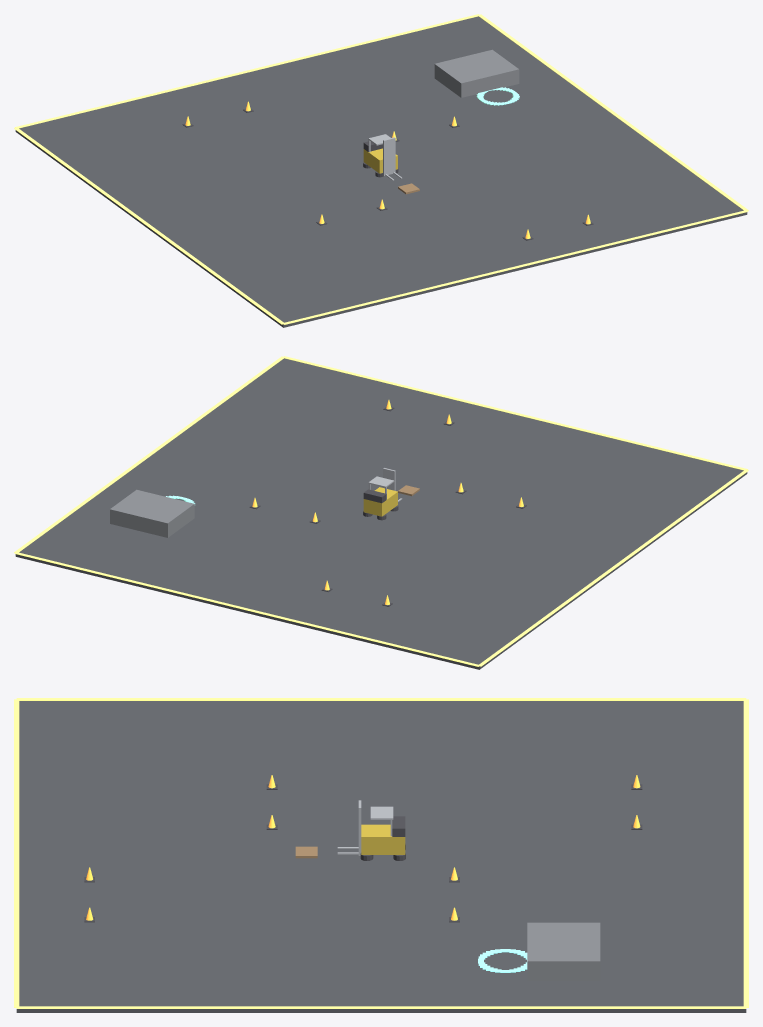
File: sim-forklift-run.glb
The picture shows the model from 3 angles, top to bottom: view 1: azimuth 30°, elevation 25°; view 2: azimuth 150°, elevation 25°; view 3: azimuth 270°, elevation 25°; orthographic projection. The views are drawn at different scales.
Parts seen in each view (by area): view 1: Forklift Yard Run; view 2: Forklift Yard Run; view 3: Forklift Yard Run.
Part boxes in pixels (<box>): Forklift Yard Run: <box>14,14,748,327</box>; Forklift Yard Run: <box>14,356,748,669</box>; Forklift Yard Run: <box>14,698,748,1012</box>.
Size of the model in its own units: 40.3 by 3.3 by 40.3.
